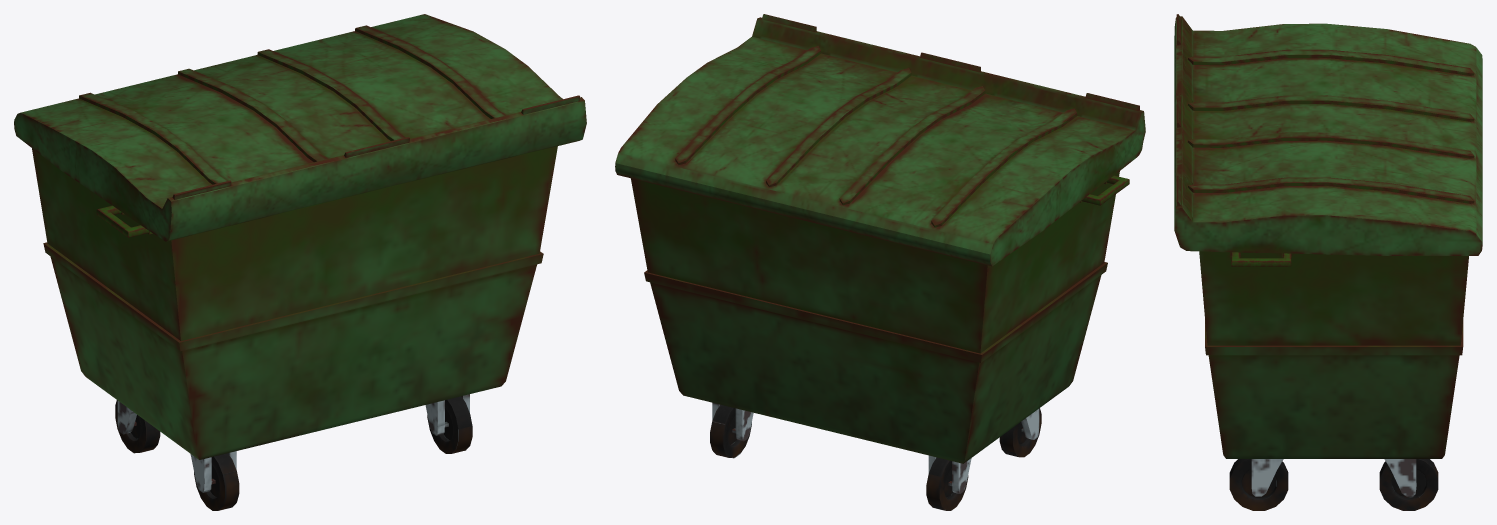
Rendered from Lixo_Grande.fbx.
3 renders of one model, left to right at view 1: azimuth 30°, elevation 25°; view 2: azimuth 150°, elevation 25°; view 3: azimuth 270°, elevation 25°, orthographic. The views are drawn at different scales.
Visible parts, largest first — view 1: Corpo, Tampa, Roda_3, Roda_1, Roda_4; view 2: Corpo, Tampa, Roda_4, Roda_2, Roda_3; view 3: Tampa, Corpo, Roda_2, Roda_1.
Boxes of the visible parts, x1,y1,x2,y2 form: Corpo: (32,146,557,459); Tampa: (14,14,586,241); Roda_3: (190,451,239,510); Roda_1: (425,394,472,453); Roda_4: (115,400,160,453); Corpo: (631,171,1129,463); Tampa: (615,14,1145,266); Roda_4: (926,455,971,510); Roda_2: (710,402,753,458); Roda_3: (999,408,1041,457); Tampa: (1174,14,1482,255); Corpo: (1199,251,1468,458); Roda_2: (1379,459,1438,510); Roda_1: (1229,459,1288,510).
Size of the model in its own units: 151 by 119 by 96.36.
